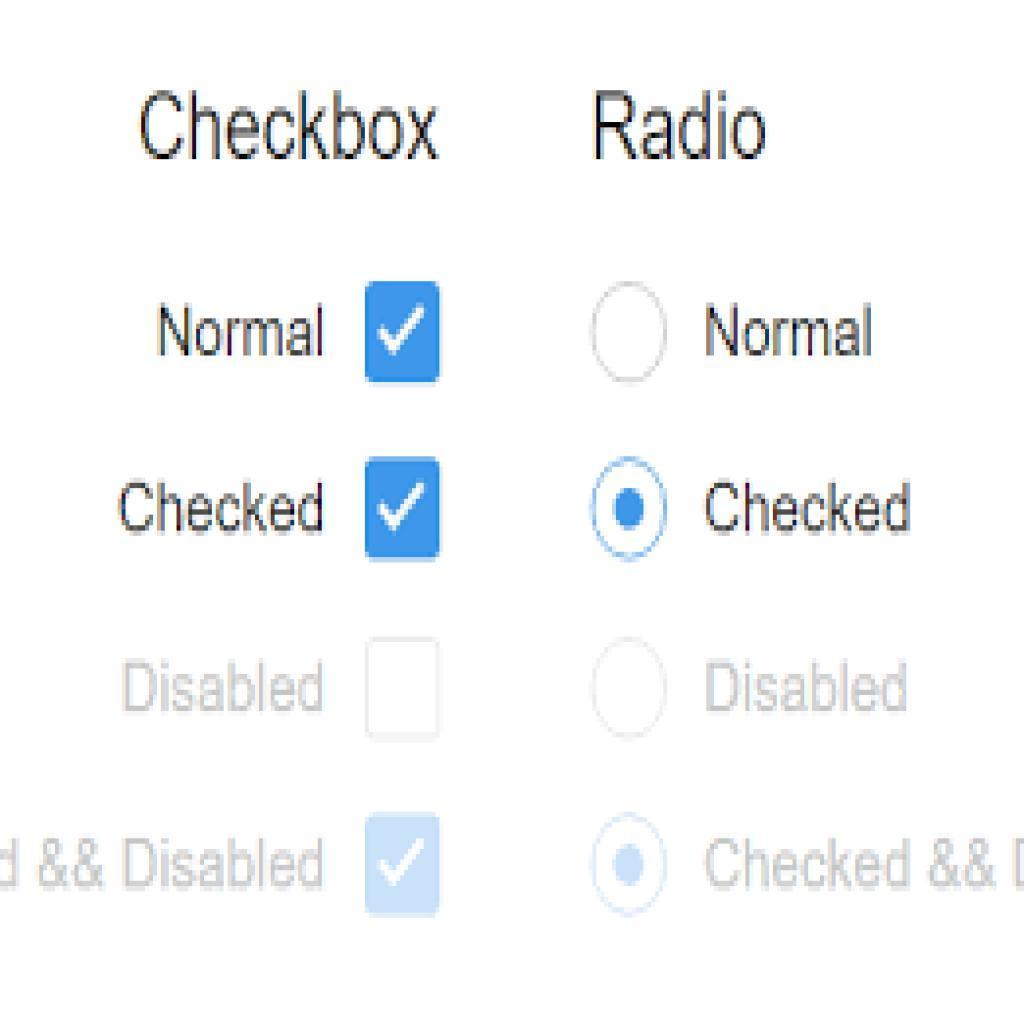checkbox: (364, 460, 441, 560), (365, 819, 443, 916), (367, 284, 441, 378), (372, 642, 441, 741)
label: (130, 83, 454, 170), (41, 823, 329, 903), (701, 823, 995, 895), (697, 473, 919, 545), (593, 83, 771, 171), (115, 471, 329, 539), (123, 652, 326, 723), (703, 651, 906, 720), (154, 294, 324, 368), (704, 302, 884, 365)
radio: (585, 810, 676, 924), (588, 279, 671, 388), (591, 460, 674, 565), (592, 637, 669, 745)
